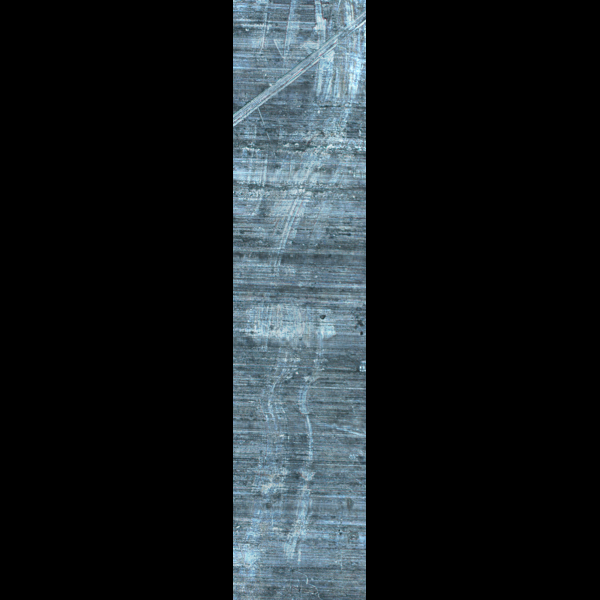d: (233, 4, 360, 134), (251, 302, 312, 570), (233, 137, 325, 273), (246, 295, 343, 359)
